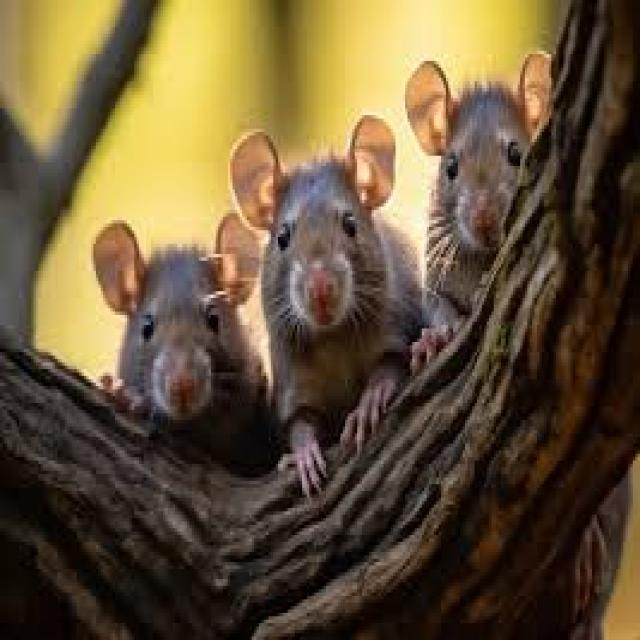rat: (225, 112, 427, 494), (402, 47, 554, 346), (91, 217, 264, 430)
